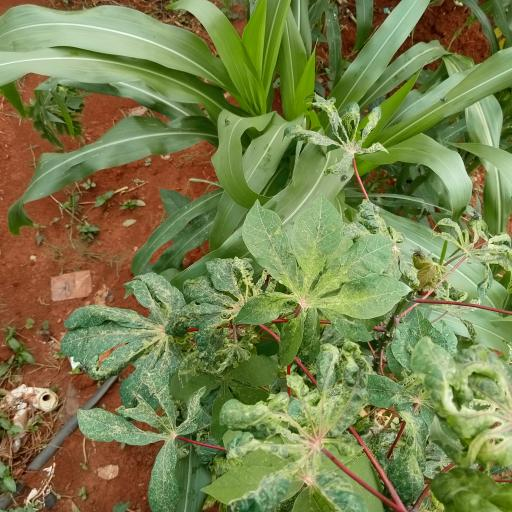Cassava_Mosaic: (242, 200, 410, 322), (221, 354, 362, 498), (77, 377, 209, 512), (68, 267, 184, 413), (181, 257, 277, 367)
